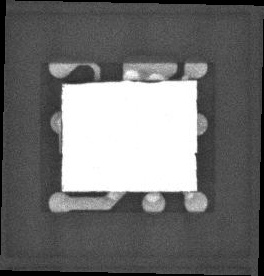DIE_BROKEN: (62, 78, 164, 85)
